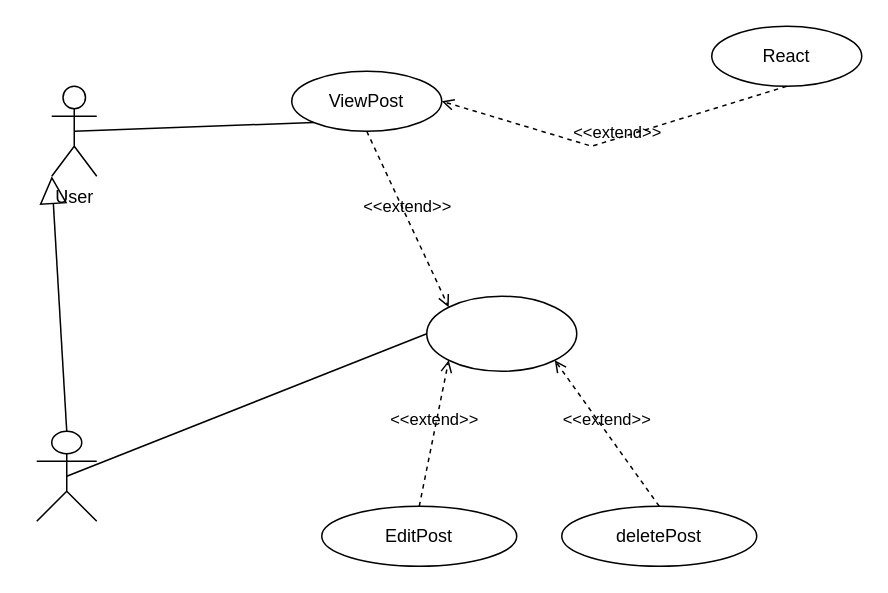
Image size: 888x593. Some labels were removed from this diagram. The centre of each missing label's shape, as x and y in pixels:
"Blogger" goes at [66,475].
"CreatesPost" goes at [501,333].
